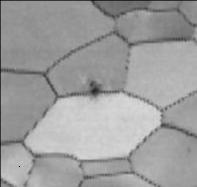good_void: (88, 79, 100, 96)
